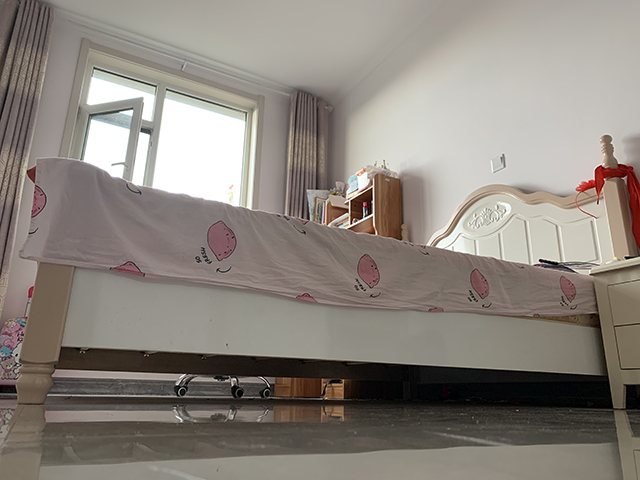bed: (13, 134, 640, 408)
cabinet: (588, 256, 640, 412)
